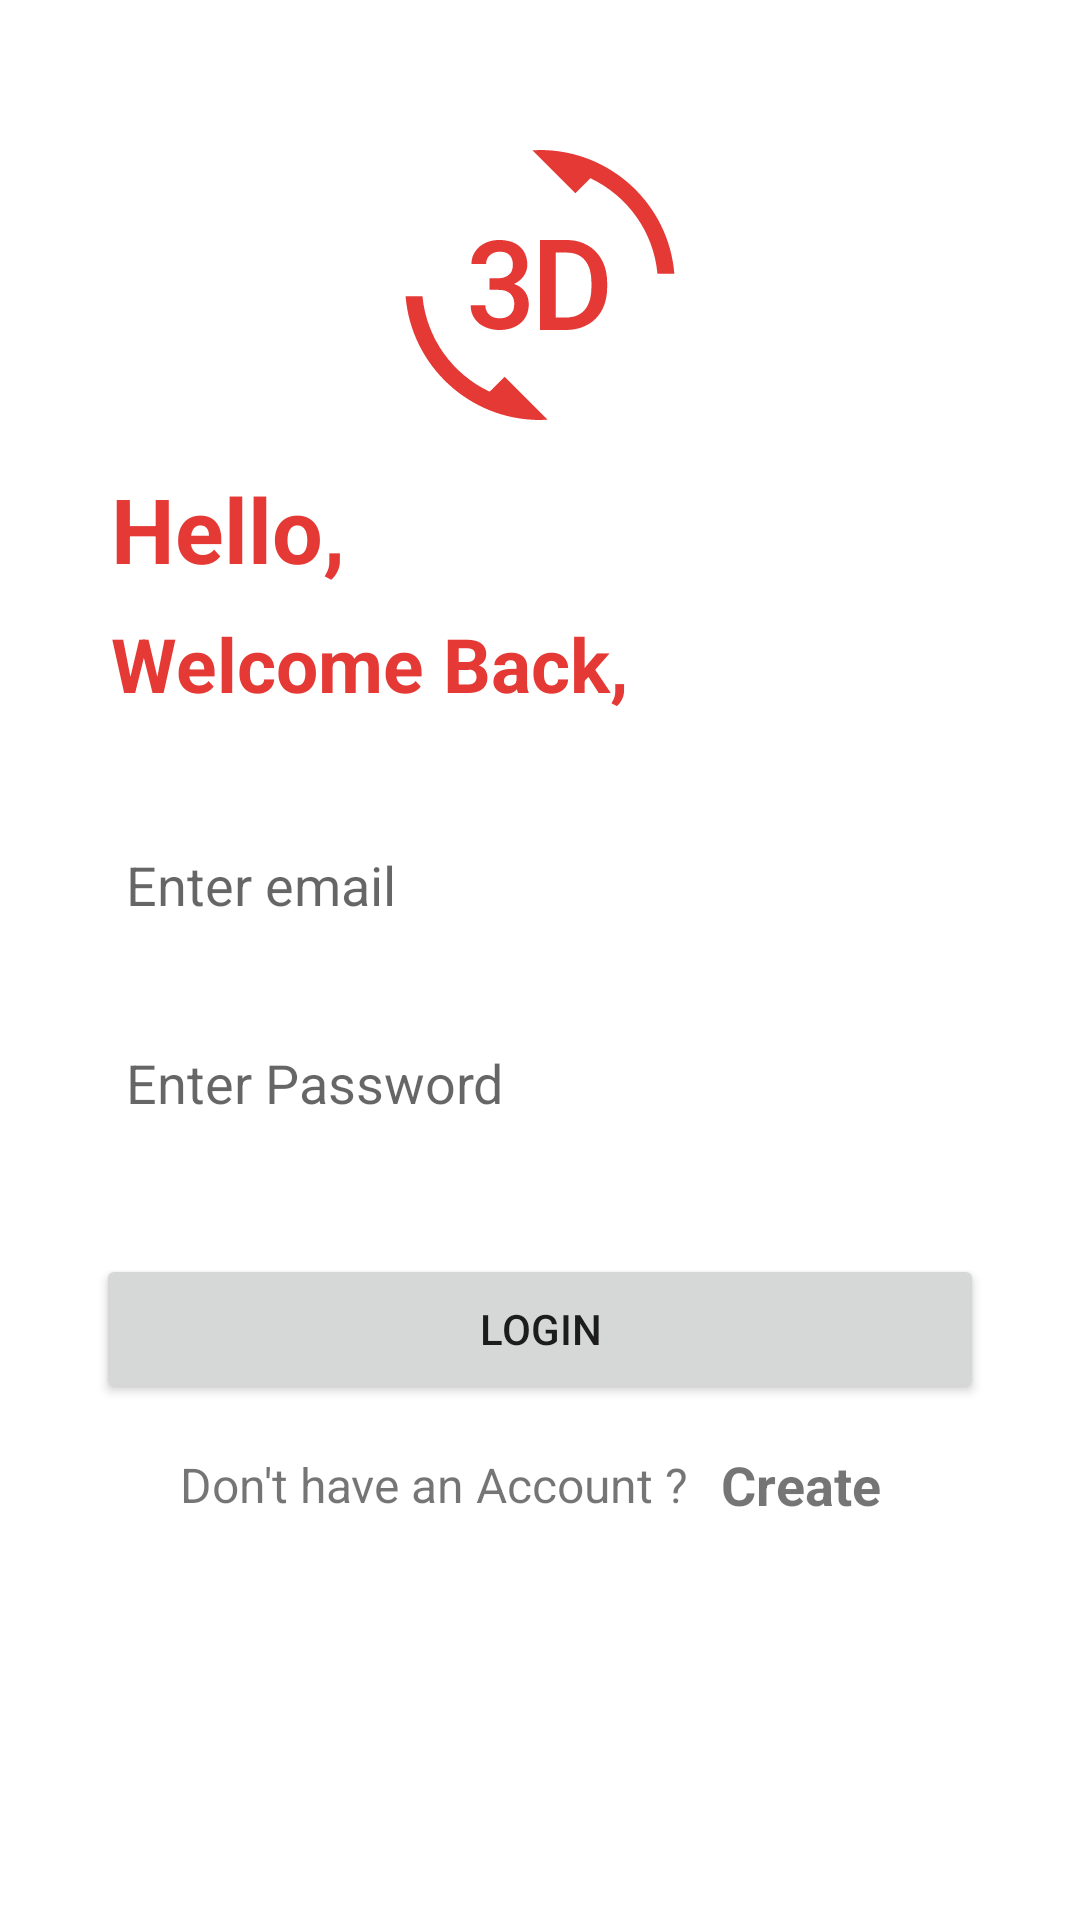

Where icons sit on this 1080 × 1920 app screen, as (x1, y1, x2, y2):
rotation: (405, 150, 675, 420)
